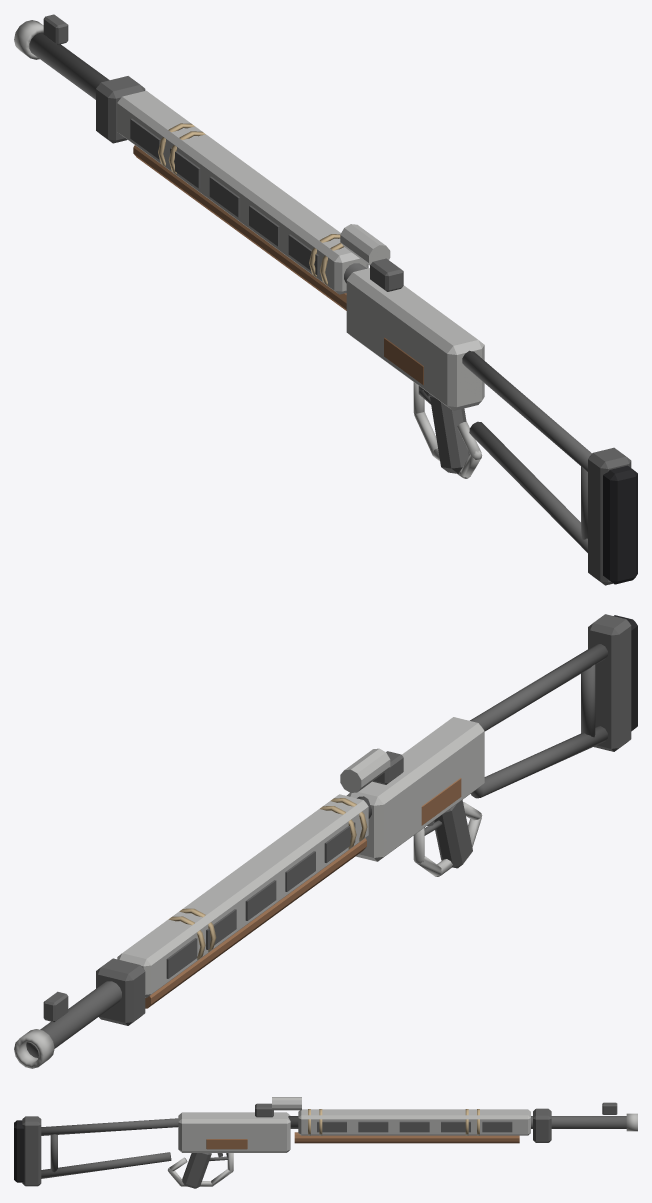
Rendered from rifle.glb.
3 views of the same model, one above another, from view 1: azimuth 30°, elevation 25°; view 2: azimuth 150°, elevation 25°; view 3: azimuth 270°, elevation 25° (orthographic). The views are drawn at different scales.
Parts seen in each view (by area): view 1: body, lever; view 2: body, lever; view 3: body, lever.
Part boxes in pixels (left/top/right/bottom): body: left=14, top=14, right=637, bottom=585; lever: left=413, top=382, right=482, bottom=478; body: left=14, top=614, right=637, bottom=1068; lever: left=413, top=802, right=482, bottom=876; body: left=14, top=1097, right=637, bottom=1188; lever: left=167, top=1153, right=233, bottom=1186.
Bounding box in the file's own units: 0.072 × 0.2647 × 1.66.
